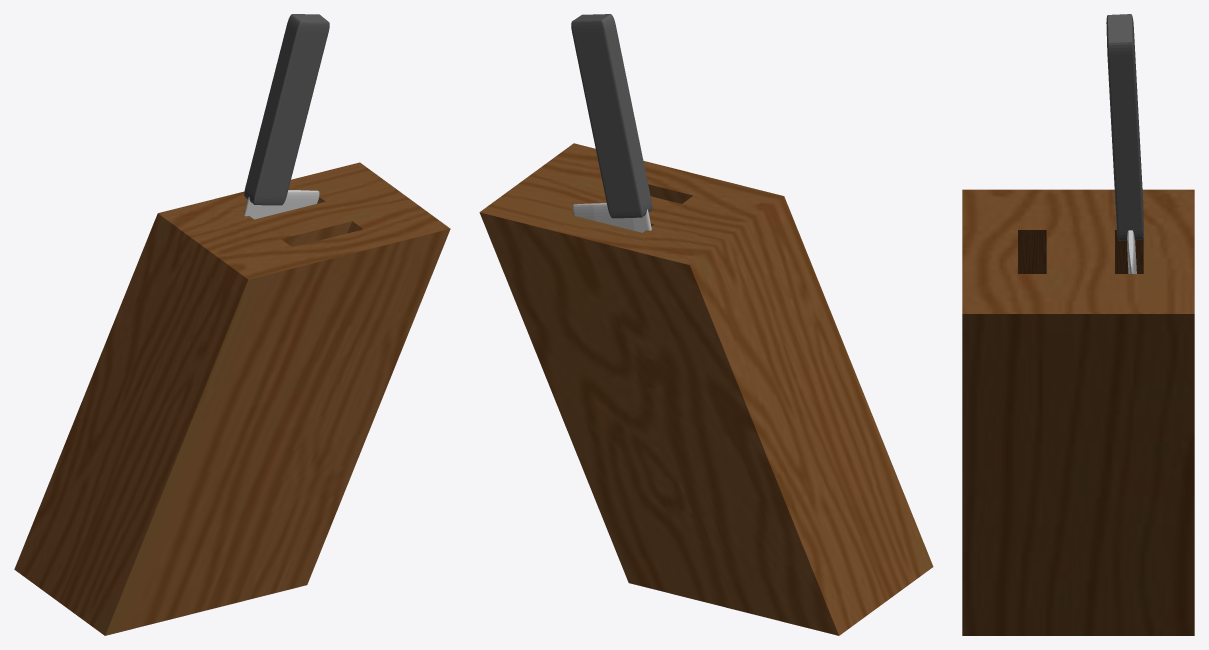
File: knifeholder.fbx
The picture shows the model from 3 angles, left to right: view 1: azimuth 30°, elevation 25°; view 2: azimuth 150°, elevation 25°; view 3: azimuth 270°, elevation 25°; orthographic projection. The views are drawn at different scales.
Visible parts, largest first — view 1: polySurface20, polySurface18, polySurface19; view 2: polySurface20, polySurface18, polySurface19; view 3: polySurface20, polySurface18, polySurface19.
Boxes of the visible parts, left/top/right/bottom form: polySurface20: left=14, top=162, right=450, bottom=635; polySurface18: left=244, top=14, right=329, bottom=205; polySurface19: left=244, top=190, right=319, bottom=219; polySurface20: left=479, top=143, right=933, bottom=635; polySurface18: left=571, top=14, right=652, bottom=218; polySurface19: left=572, top=203, right=651, bottom=232; polySurface20: left=962, top=189, right=1194, bottom=635; polySurface18: left=1106, top=14, right=1143, bottom=240; polySurface19: left=1127, top=230, right=1136, bottom=273.
Size of the model in its own units: 0.3521 by 0.4982 by 0.16.
